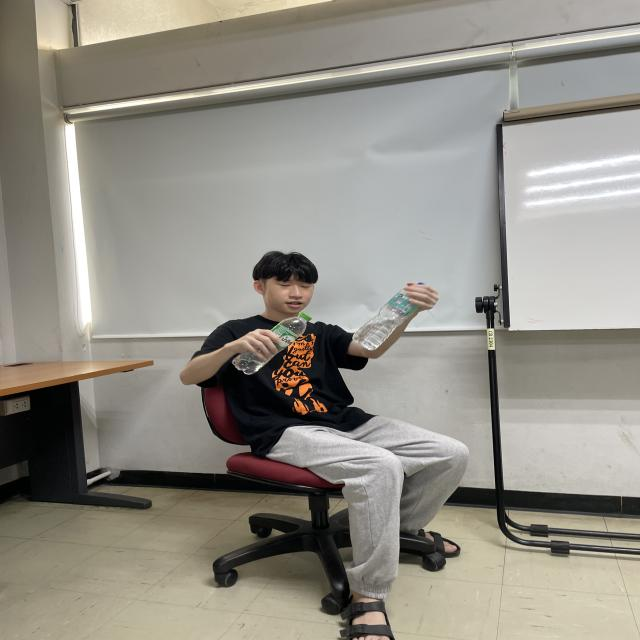bottle: (351, 278, 427, 352), (231, 310, 313, 376)
